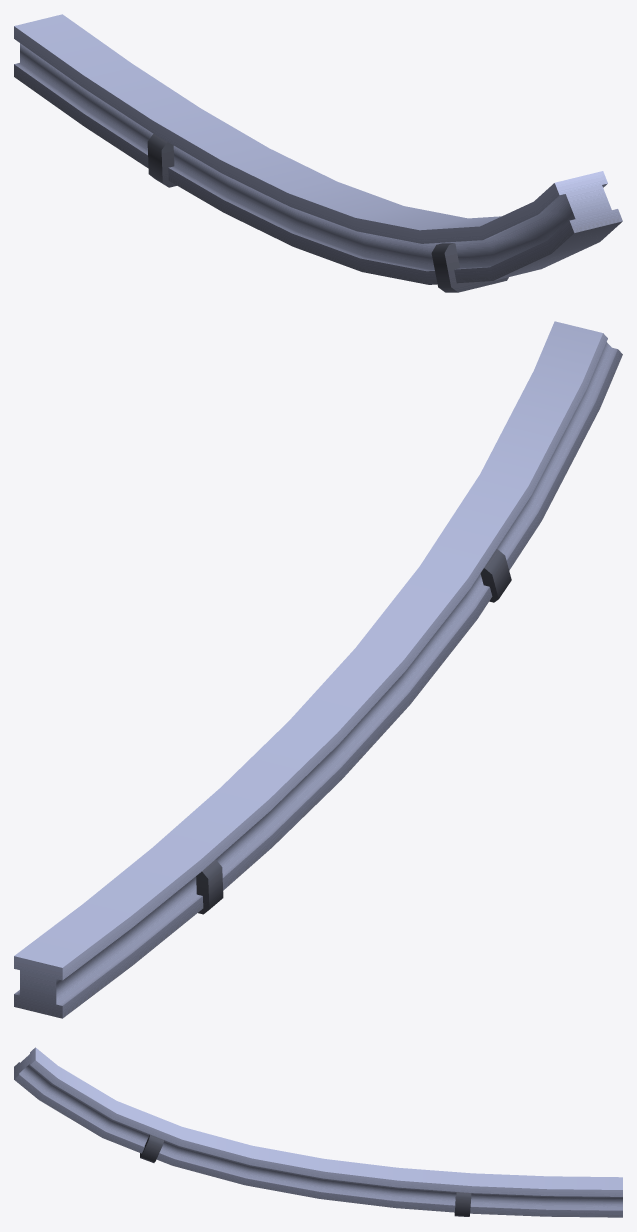
File: coaster-monorail-straight-hill-beginning.glb
The picture shows the model from 3 angles, top to bottom: view 1: azimuth 30°, elevation 25°; view 2: azimuth 150°, elevation 25°; view 3: azimuth 270°, elevation 25°; orthographic projection. The views are drawn at different scales.
Parts seen in each view (by area): view 1: coaster-monorail-straight-hill-beginning; view 2: coaster-monorail-straight-hill-beginning; view 3: coaster-monorail-straight-hill-beginning.
Boxes of the visible parts, x1=… form: coaster-monorail-straight-hill-beginning: x1=14, y1=14, x2=622, y2=292; coaster-monorail-straight-hill-beginning: x1=14, y1=321, x2=622, y2=1018; coaster-monorail-straight-hill-beginning: x1=14, y1=1047, x2=622, y2=1217.
Bounding box in the file's own units: 0.25 × 1.14 × 4.
Materials: 1 (1 with a texture image).
